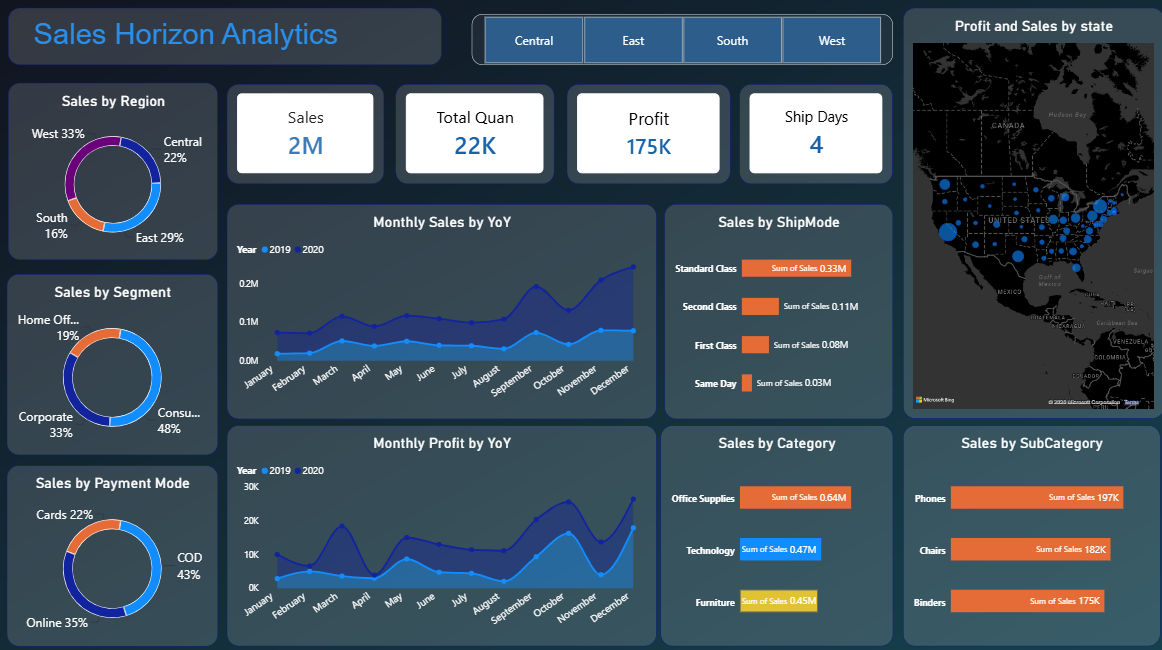

What the dashboard file says about the page in this screenshot:
{"tool":"powerbi","page":{"name":"Page 1","canvas":[1920,1080],"ordinal":0},"visuals":[{"type":"clusteredBarChart","title":" Sales by Category","fields":{"Category":["SuperStore_Sales_Dataset.Category"],"Y":["Sum(SuperStore_Sales_Dataset.Sales)"]},"box":[1090.9,701.9,382.8,364.3],"z":0},{"type":"clusteredBarChart","title":" Sales by SubCategory","fields":{"Category":["SuperStore_Sales_Dataset.Sub-Category"],"Y":["Sum(SuperStore_Sales_Dataset.Sales)"]},"box":[1490.2,701.9,424,364.3],"z":1000},{"type":"clusteredBarChart","title":" Sales by ShipMode","fields":{"Category":["SuperStore_Sales_Dataset.Ship Mode"],"Y":["Sum(SuperStore_Sales_Dataset.Sales)"]},"box":[1097.1,337.6,376.7,354],"z":2000},{"type":"stackedAreaChart","title":"Monthly Sales by YoY","fields":{"Category":["SuperStore_Sales_Dataset.Order Date.Variation.Date Hierarchy.Month","SuperStore_Sales_Dataset.Order Date.Variation.Date Hierarchy.Day"],"Y":["Sum(SuperStore_Sales_Dataset.Sales)"],"Series":["SuperStore_Sales_Dataset.Order Date.Variation.Date Hierarchy.Year"]},"box":[376.7,337.6,708.1,354],"z":3000},{"type":"stackedAreaChart","title":"Monthly Profit by YoY","fields":{"Category":["SuperStore_Sales_Dataset.Order Date.Variation.Date Hierarchy.Month","SuperStore_Sales_Dataset.Order Date.Variation.Date Hierarchy.Day"],"Series":["SuperStore_Sales_Dataset.Order Date.Variation.Date Hierarchy.Year"],"Y":["Sum(SuperStore_Sales_Dataset.Profit)"]},"box":[376.7,701.9,708.1,364.3],"z":4000},{"type":"map","title":"Profit and Sales by state","fields":{"Category":["SuperStore_Sales_Dataset.State"],"Size":["Sum(SuperStore_Sales_Dataset.Sales)"]},"box":[1490.2,14.4,430.2,677.2],"z":5000},{"type":"donutChart","title":"Sales by Segment","fields":{"Category":["SuperStore_Sales_Dataset.Segment"],"Y":["Sum(SuperStore_Sales_Dataset.Sales)"]},"box":[14.4,452.8,347.9,298.5],"z":6000},{"type":"donutChart","title":"Sales by Payment Mode","fields":{"Category":["SuperStore_Sales_Dataset.Payment Mode"],"Y":["Sum(SuperStore_Sales_Dataset.Sales)"]},"box":[14.4,767.8,347.9,298.5],"z":7000},{"type":"slicer","fields":{"Values":["SuperStore_Sales_Dataset.Region"]},"box":[780.1,24.7,693.7,84.4],"z":8000},{"type":"textbox","box":[16.5,14.4,714.2,94.7],"z":9000},{"type":"cardVisual","fields":{"Data":["Sum(SuperStore_Sales_Dataset.Sales)"]},"box":[376.7,140,259.3,164.7],"z":10000},{"type":"cardVisual","fields":{"Data":["Sum(SuperStore_Sales_Dataset.Quantity)"]},"box":[654.5,140,261.4,164.7],"z":11000},{"type":"cardVisual","fields":{"Data":["Sum(SuperStore_Sales_Dataset.Profit)"]},"box":[936.5,140,269.6,164.7],"z":12000},{"type":"cardVisual","fields":{"Data":["Avg(SuperStore_Sales_Dataset.AvgDelivery)"]},"box":[1220.6,140,253.2,164.7],"z":13000},{"type":"donutChart","title":" Sales by Region","fields":{"Y":["Sum(SuperStore_Sales_Dataset.Sales)"],"Series":["SuperStore_Sales_Dataset.Region"]},"box":[16.5,137.9,345.8,292.3],"z":14000}]}

Visuals, with their boxes in screenshot pixels (x1, y1, x2, y2), scaled from the page's 1920x1080 canvas onto the 1162x650 screenshot:
" Sales by Category" clusteredBarChart: l=660, t=422, r=892, b=642
" Sales by SubCategory" clusteredBarChart: l=902, t=422, r=1158, b=642
" Sales by ShipMode" clusteredBarChart: l=664, t=203, r=892, b=416
"Monthly Sales by YoY" stackedAreaChart: l=228, t=203, r=657, b=416
"Monthly Profit by YoY" stackedAreaChart: l=228, t=422, r=657, b=642
"Profit and Sales by state" map: l=902, t=9, r=1161, b=416
"Sales by Segment" donutChart: l=9, t=273, r=219, b=452
"Sales by Payment Mode" donutChart: l=9, t=462, r=219, b=642
slicer - SuperStore_Sales_Dataset.Region: l=472, t=15, r=892, b=66
textbox: l=10, t=9, r=442, b=66
cardVisual - Sum(SuperStore_Sales_Dataset.Sales): l=228, t=84, r=385, b=183
cardVisual - Sum(SuperStore_Sales_Dataset.Quantity): l=396, t=84, r=554, b=183
cardVisual - Sum(SuperStore_Sales_Dataset.Profit): l=567, t=84, r=730, b=183
cardVisual - Avg(SuperStore_Sales_Dataset.AvgDelivery): l=739, t=84, r=892, b=183
" Sales by Region" donutChart: l=10, t=83, r=219, b=259
